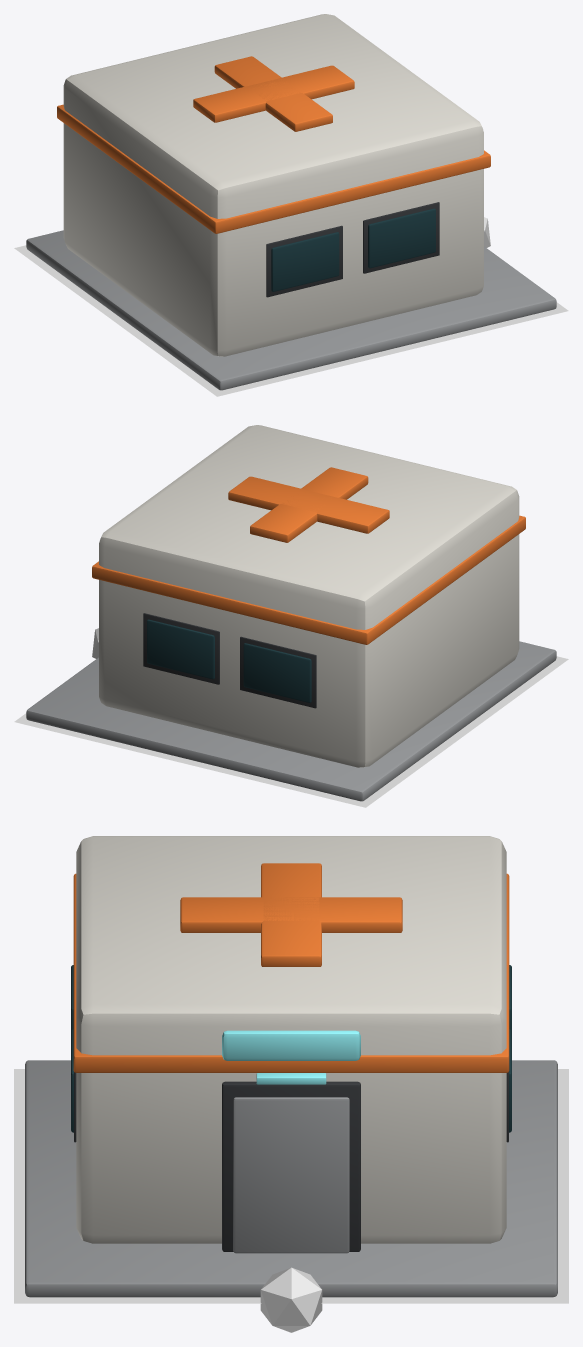
The model's file is infirmary_1x1.gltf.
3 views of the same model, one above another, from view 1: azimuth 30°, elevation 25°; view 2: azimuth 150°, elevation 25°; view 3: azimuth 270°, elevation 25° (orthographic). The views are drawn at different scales.
Visible parts, largest first — view 1: Infirmary, %P%Footprint; view 2: Infirmary, %P%Footprint; view 3: Infirmary, %P%Footprint, %P%AnchorIn.
Boxes of the visible parts, x1,y1,x2,y2 form: Infirmary: [26, 14, 556, 390]; %P%Footprint: [14, 245, 568, 396]; Infirmary: [26, 425, 556, 801]; %P%Footprint: [14, 656, 568, 807]; Infirmary: [25, 836, 557, 1297]; %P%Footprint: [14, 1069, 568, 1303]; %P%AnchorIn: [260, 1267, 322, 1332].
Size of the model in its own units: 2.12 by 1.24 by 2.
